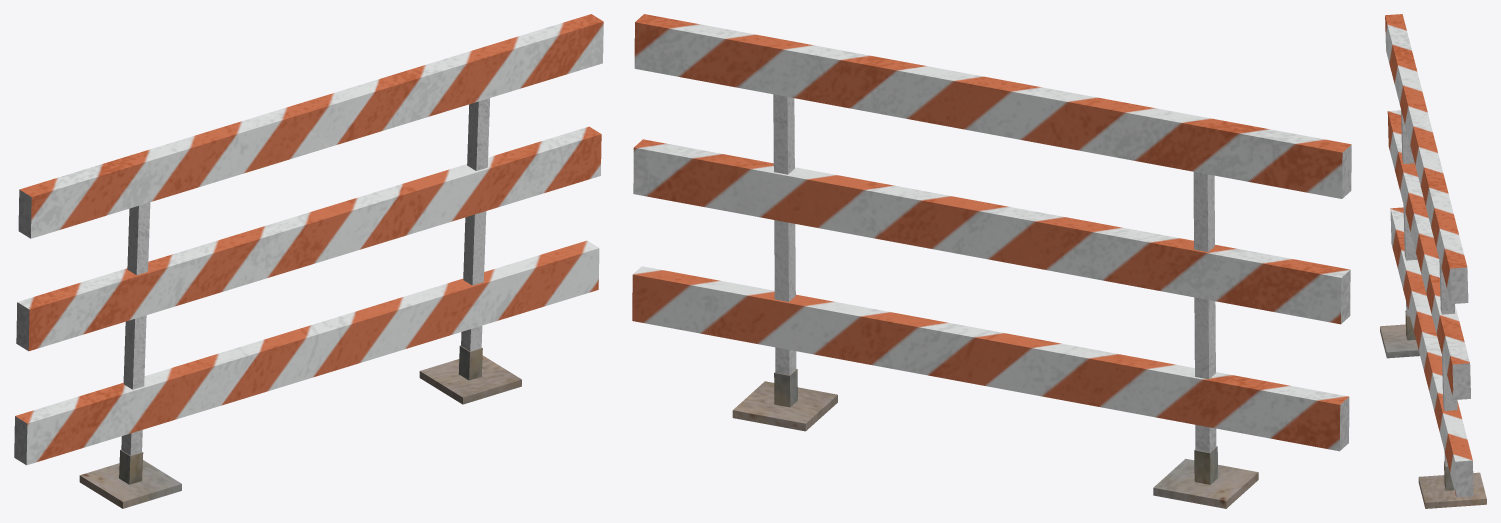
File: Barricade3L.fbx
3 renders of one model, left to right at view 1: azimuth 30°, elevation 25°; view 2: azimuth 150°, elevation 25°; view 3: azimuth 270°, elevation 25°, orthographic. The views are drawn at different scales.
Parts seen in each view (by area): view 1: Barricade3L; view 2: Barricade3L; view 3: Barricade3L.
Boxes of the visible parts, x1,y1,x2,y2 form: Barricade3L: [14, 14, 603, 508]; Barricade3L: [632, 14, 1351, 508]; Barricade3L: [1380, 14, 1486, 508].
Size of the model in its own units: 204 by 106 by 36.37.
